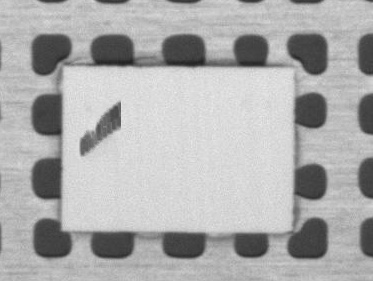DIE_INK: (81, 96, 125, 154)
